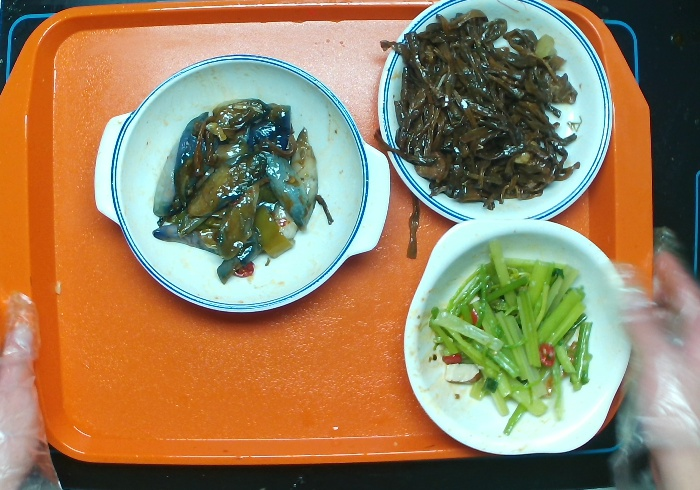HZYJPL-Dai_Er_Bai_Yuan_Wan: (401, 212, 631, 460)
HZYJPL-Lan_Bian_Dai_Er_Wan: (90, 52, 393, 319)
HZYJPL-Lan_Bian_Yuan_Die: (376, 3, 614, 227)
